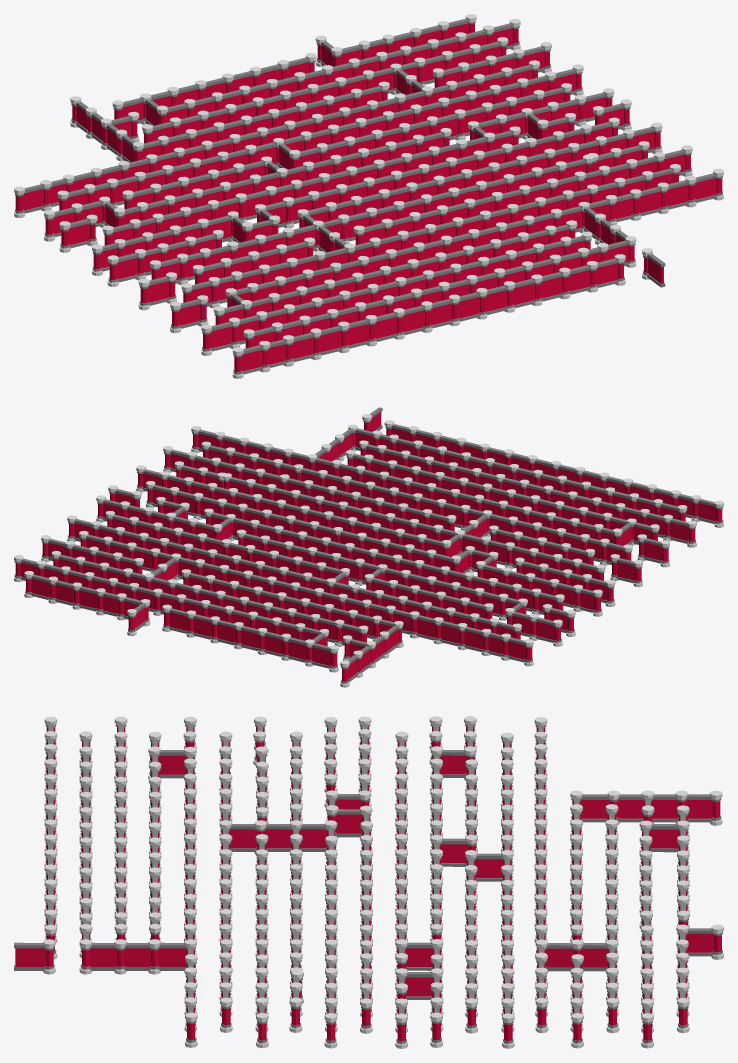
File: sutun2.fbx
The picture shows the model from 3 angles, top to bottom: view 1: azimuth 30°, elevation 25°; view 2: azimuth 150°, elevation 25°; view 3: azimuth 270°, elevation 25°; orthographic projection. The views are drawn at different scales.
Visible parts, largest first — view 1: duvar.146; view 2: duvar.146; view 3: duvar.146.
Boxes of the visible parts, x1=… form: duvar.146: x1=14, y1=14, x2=723, y2=378; duvar.146: x1=14, y1=407, x2=723, y2=687; duvar.146: x1=14, y1=716, x2=723, y2=1048.
Size of the model in its own units: 102 by 4.73 by 101.
